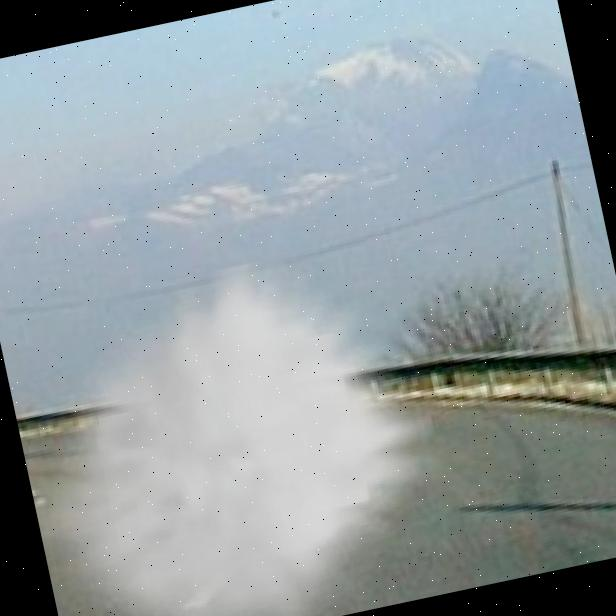smoke: (0, 233, 468, 616)
